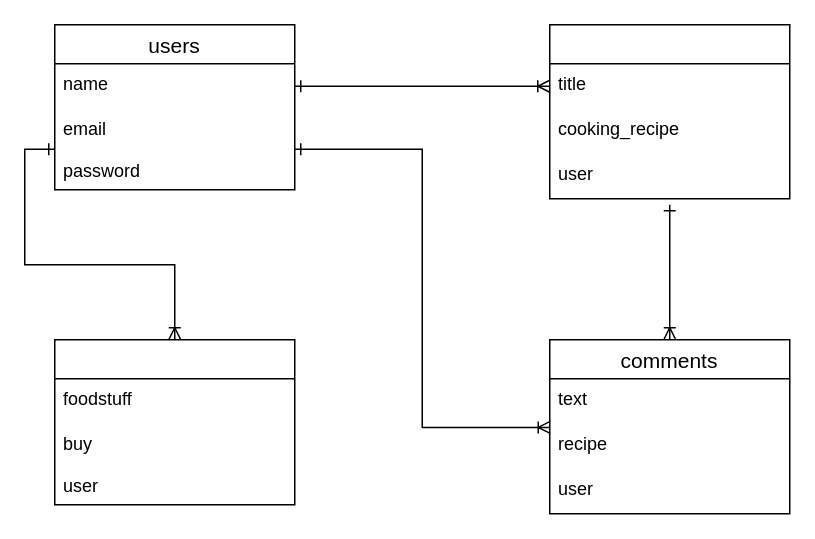
The diagram is 815 pixels wide and 539 high, and some of its shapes have lost their labels. The shapes that lost their labels are listed below. From the top down, each one's box as (x1, y1, x2, y2) in pixels, then its label:
(548, 23, 790, 199): recipes
(53, 338, 295, 505): refrigerators
